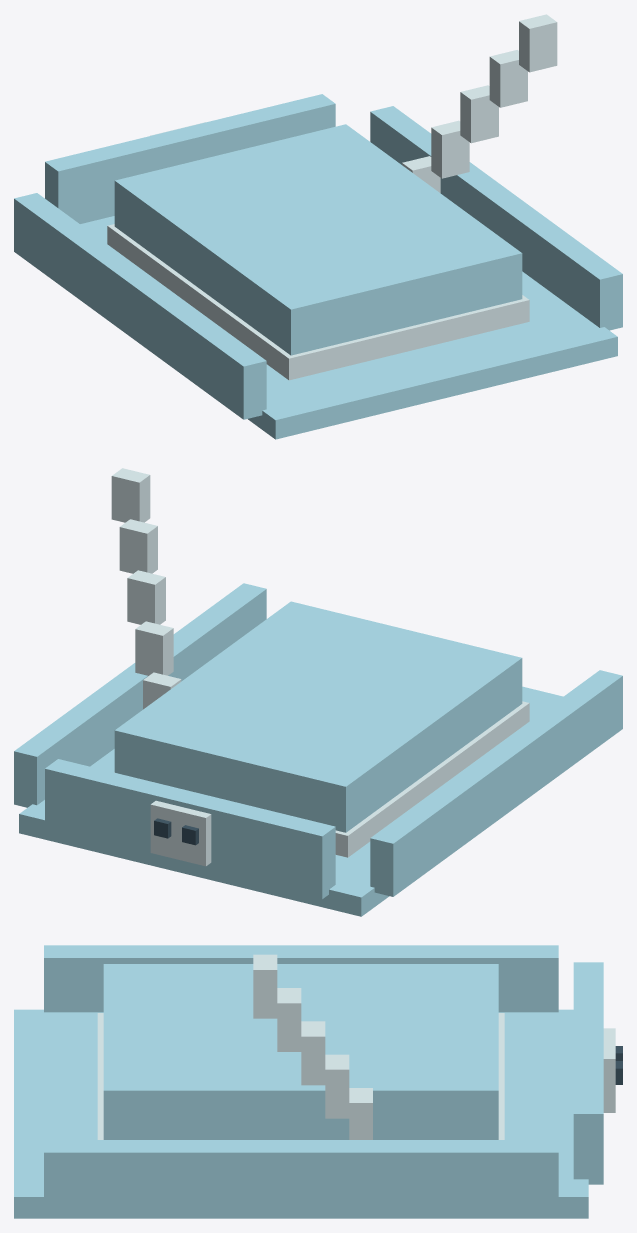
File: chapeu_fantasma.glb
3 views of the same model, one above another, from view 1: azimuth 30°, elevation 25°; view 2: azimuth 150°, elevation 25°; view 3: azimuth 270°, elevation 25° (orthographic). The views are drawn at different scales.
Visible parts, largest first — view 1: chapeu_fantasma; view 2: chapeu_fantasma; view 3: chapeu_fantasma.
Part boxes in pixels (x1=…): chapeu_fantasma: x1=14, y1=14, x2=622, y2=439; chapeu_fantasma: x1=14, y1=468, x2=622, y2=916; chapeu_fantasma: x1=14, y1=945, x2=622, y2=1218.
Size of the model in its own units: 0.88 by 0.505 by 1.02.
